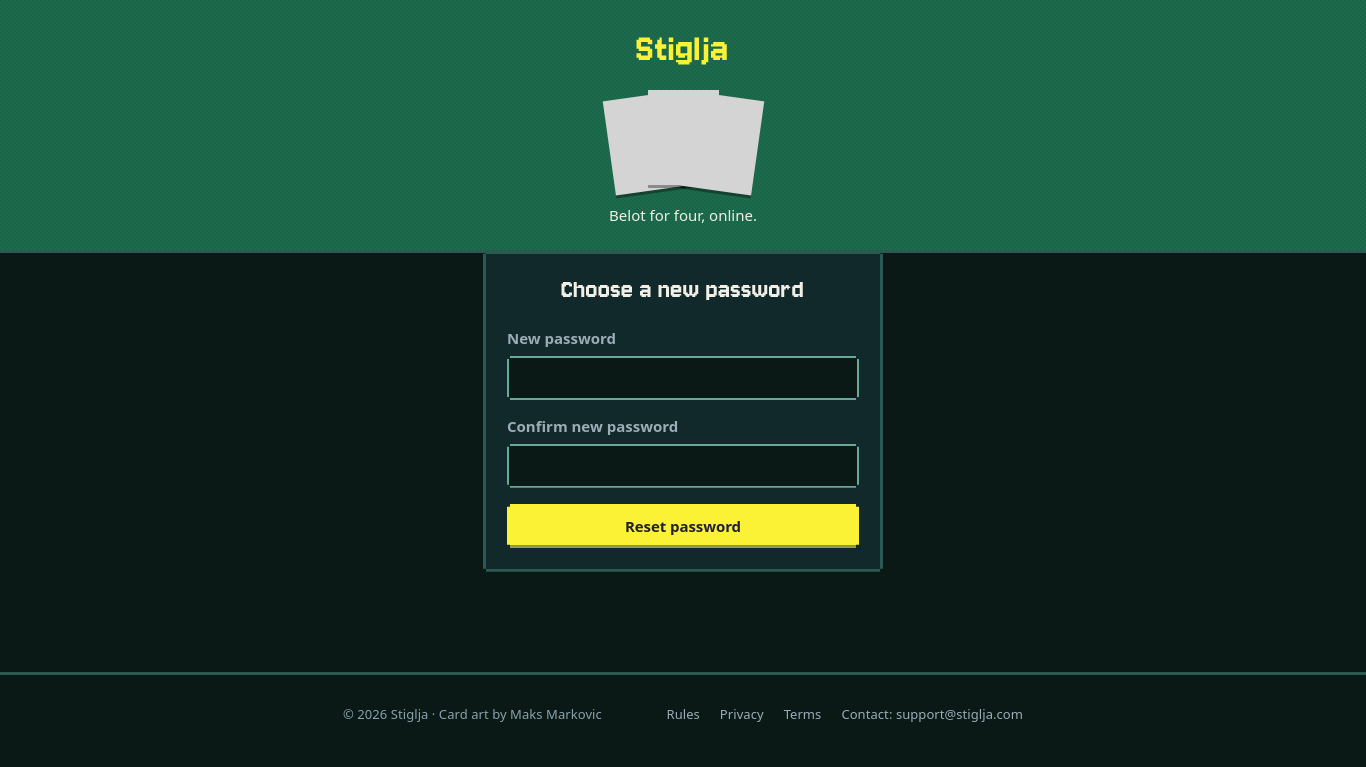
Test: ResetPasswordPage › a used or expired link shows the server message
In the password field labelled "New password": {"x": 683, "y": 378} [507,356,859,400], type "brand-new-pass"
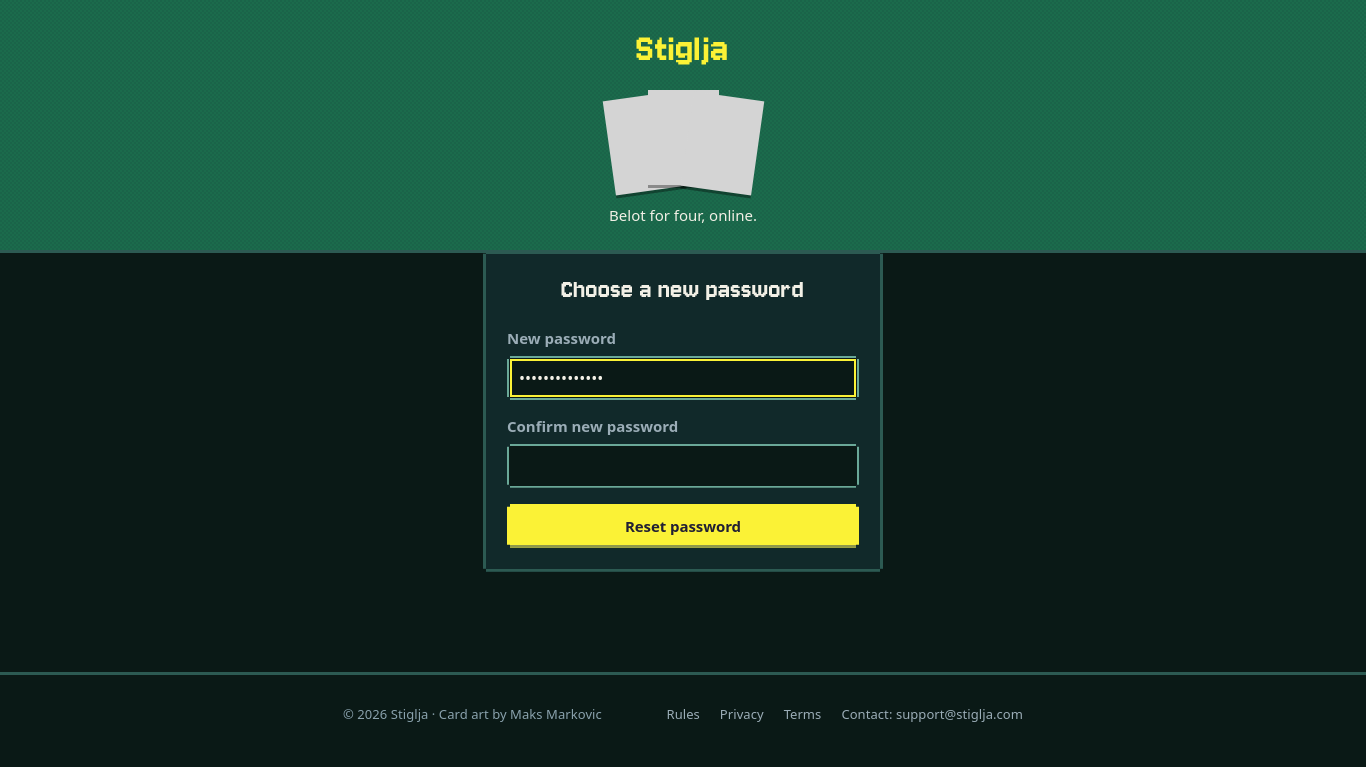
In the password field labelled "Confirm new password": {"x": 683, "y": 466} [507,444,859,488], type "brand-new-pass"
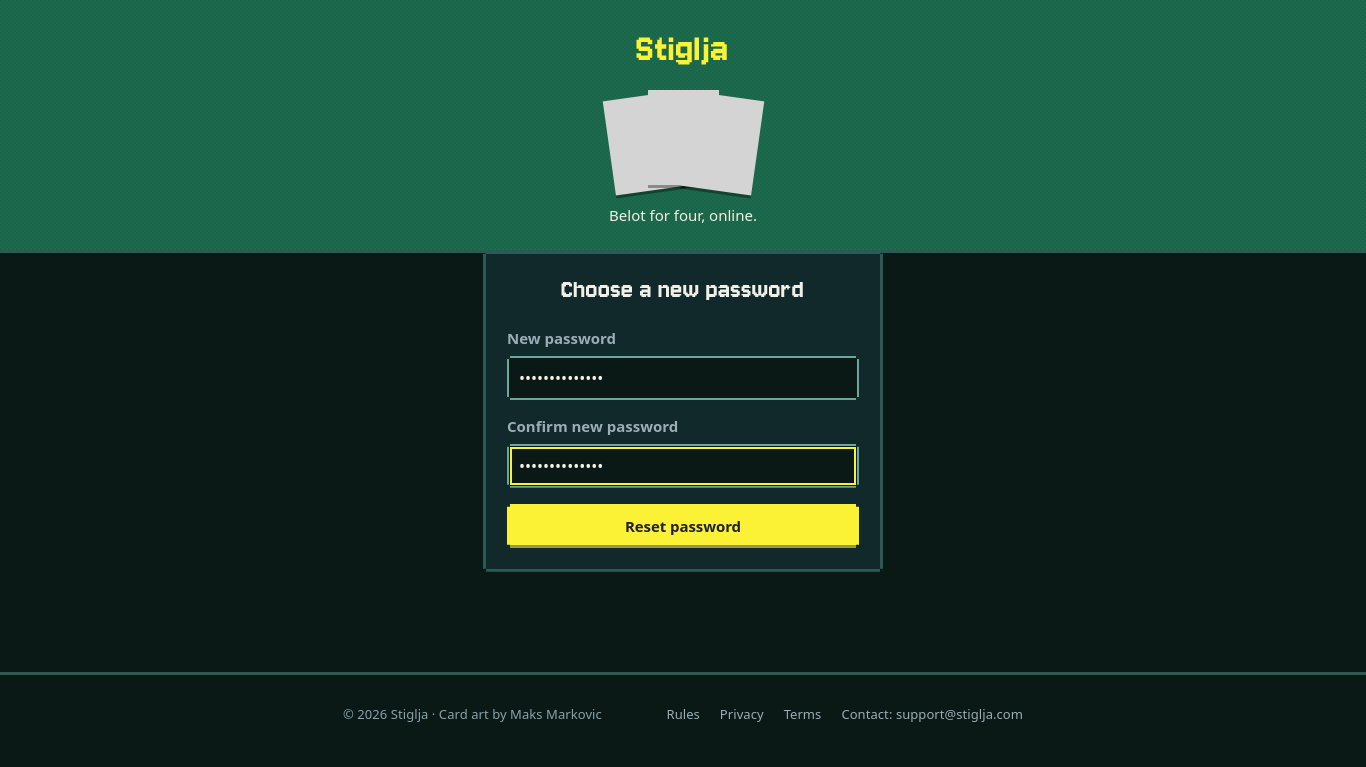
Click the button "Reset password": {"x": 683, "y": 526} [507,504,859,548]
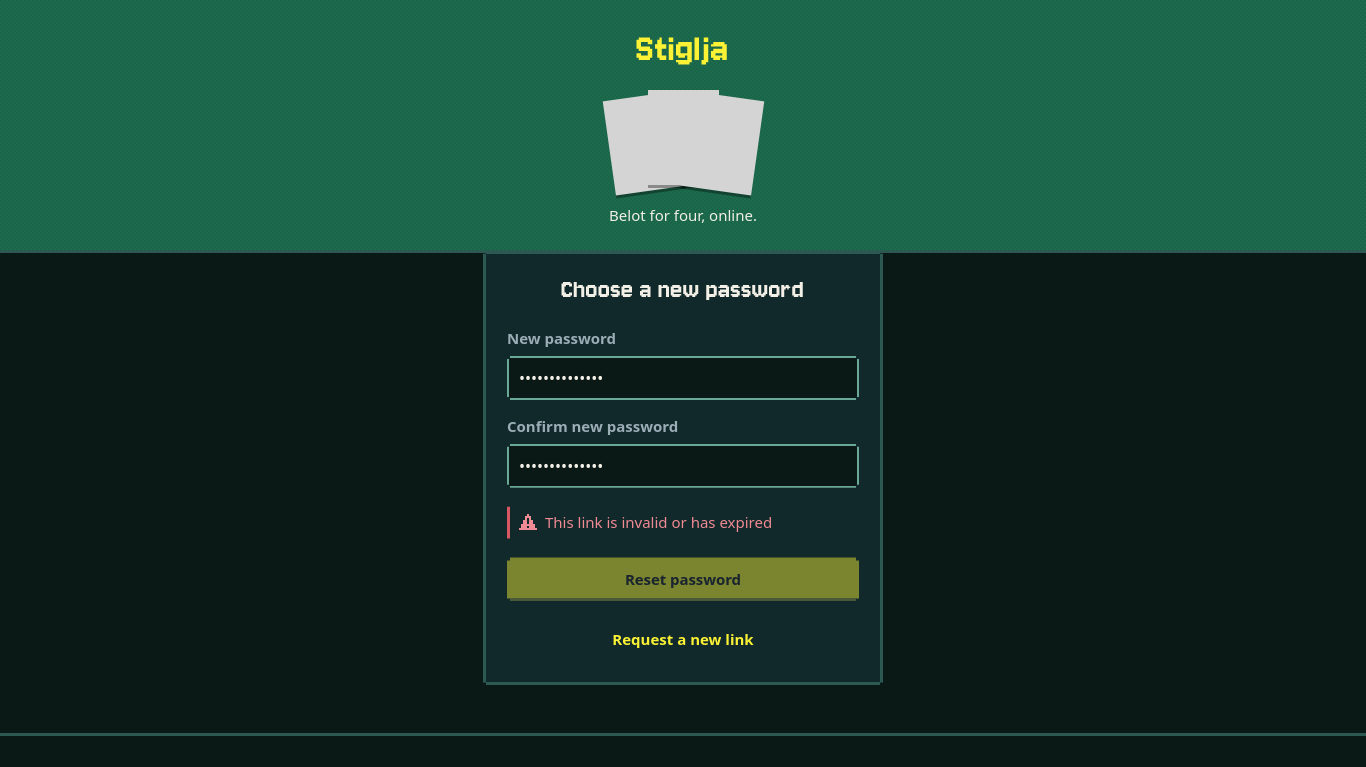
Result: the message reads "This link is invalid or has expired" at [545,512,772,532]
Result: the button "Reset password" is disabled at [507,557,859,601]
